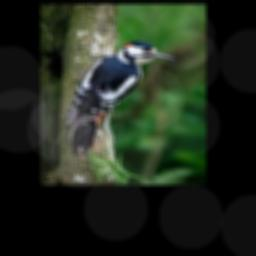Woodpecker: (65, 40, 175, 156)
